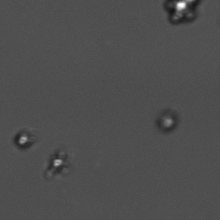Living Cell: (163, 1, 201, 23), (157, 111, 180, 133), (46, 154, 69, 174), (12, 128, 34, 148)
